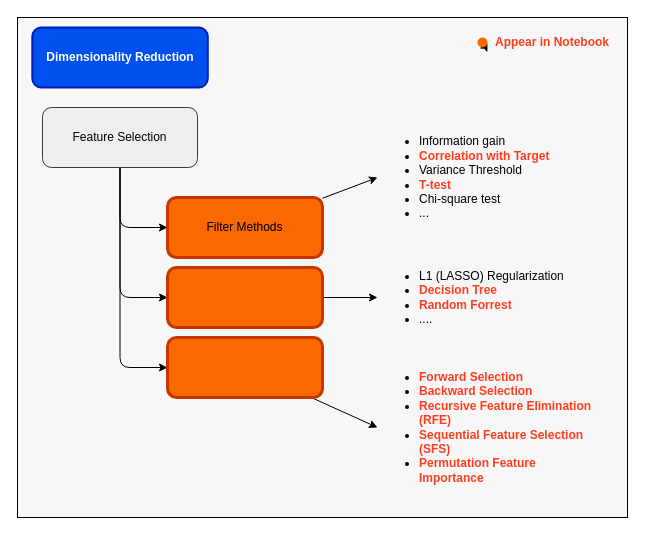
Some shapes in this 645 by 535 pixel diagram are drawn without their labels. The centre of each missing label's shape, as x and y in pixels:
Embedded Methods: the point at 245,297
Wrapper Methods: the point at 245,367
